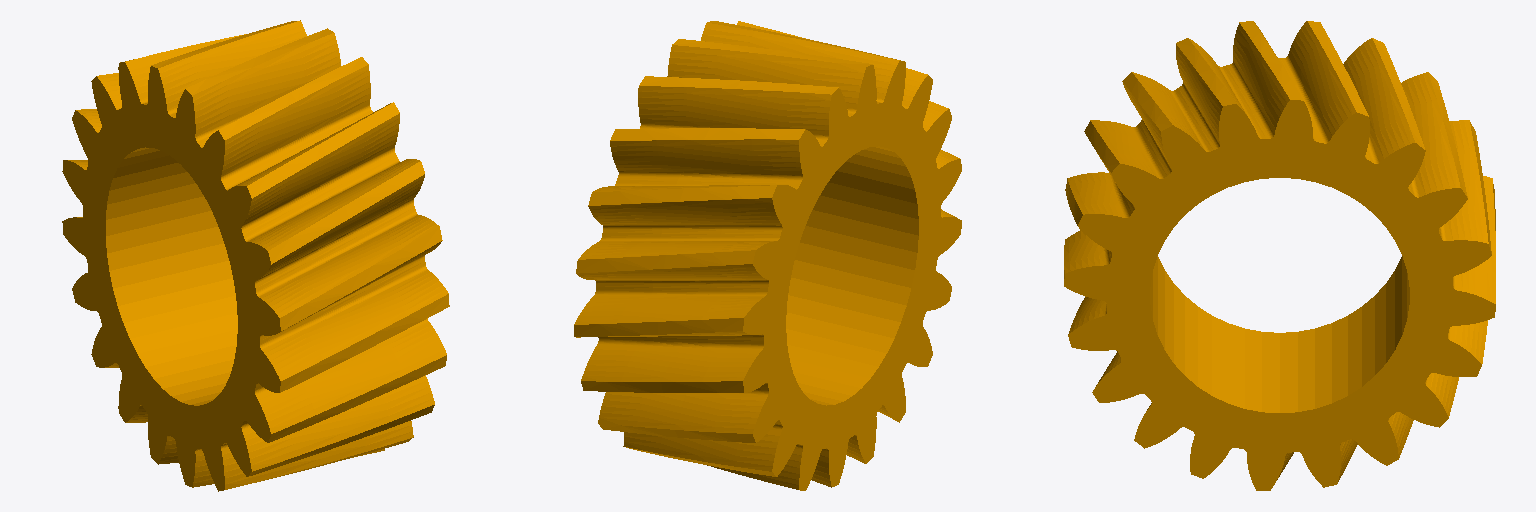
URDF robot description (myfrst):
<?xml version="1.0"?>
<robot name="myfrst">
  <link name="base_link">
  <visual>
    <geometry>
      <mesh filename="package://beginner_tutorials/urdf/gear.dae" scale="0.0001 0.0001 0.0001"/>
    </geometry>
  </visual>
  </link>
</robot>

--- Facts derived from the render (not from the file) ---
Views: 3 orthographic renders of the robot side by side, from view 1: azimuth 30°, elevation 25°; view 2: azimuth 150°, elevation 25°; view 3: azimuth 270°, elevation 25°.
Model myfrst with 1 links and 0 joints (none), rooted at base_link, posed every joint at zero.
Visible links, largest first — view 1: base_link; view 2: base_link; view 3: base_link.
Link boxes in pixels (bbox=[...]): base_link: bbox=[62, 20, 449, 491]; base_link: bbox=[574, 21, 961, 490]; base_link: bbox=[1064, 21, 1495, 490].
Size in the robot's own frame: 0.022 by 0.05 by 0.05 metres.
Meshes: 1 distinct files referenced, 1 mesh visuals loaded (1 Collada DAE).